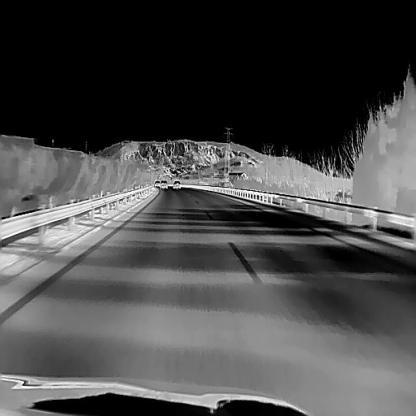car: (172, 179, 180, 188), (160, 179, 167, 188)
